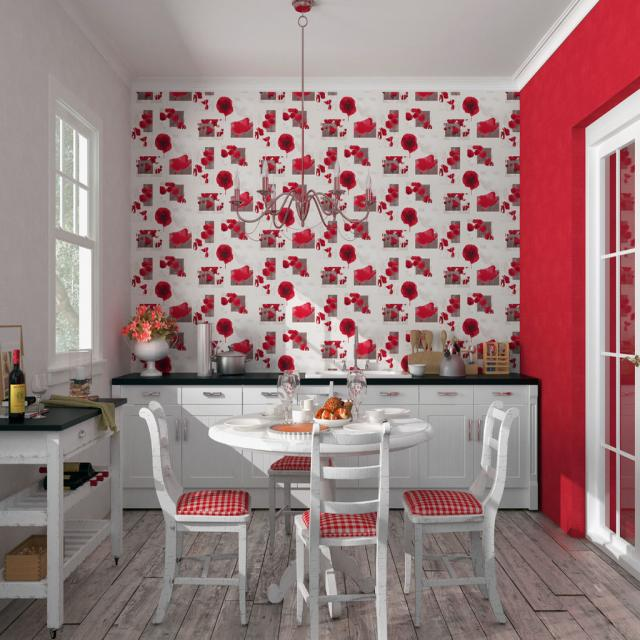chair: (402, 400, 518, 628), (138, 400, 252, 627), (287, 422, 392, 634)
desk: (0, 377, 125, 615)
